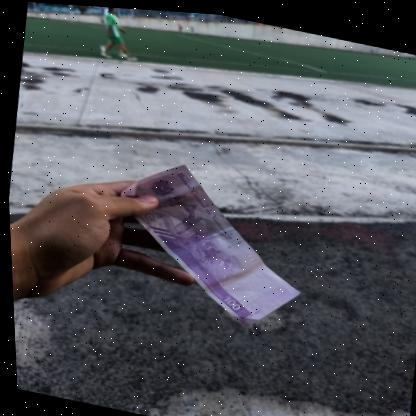one_hundred-back-vef: (100, 147, 315, 336)
